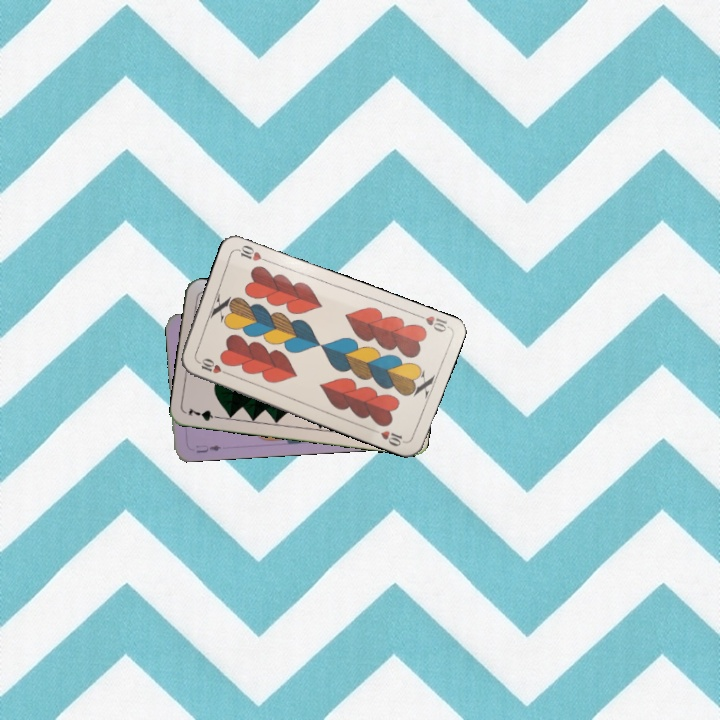EU: (192, 440, 223, 455)
G7: (184, 404, 225, 424)
H10: (412, 310, 451, 335), (193, 355, 232, 378)
